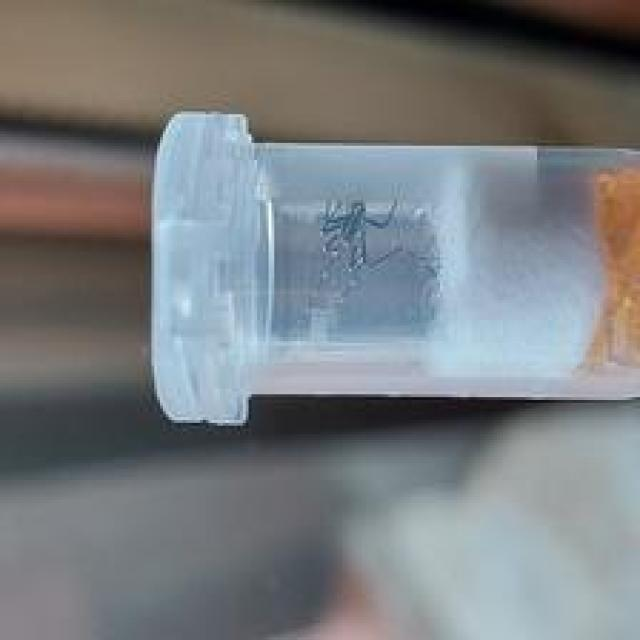Aedes albopictus: (148, 107, 640, 427)
